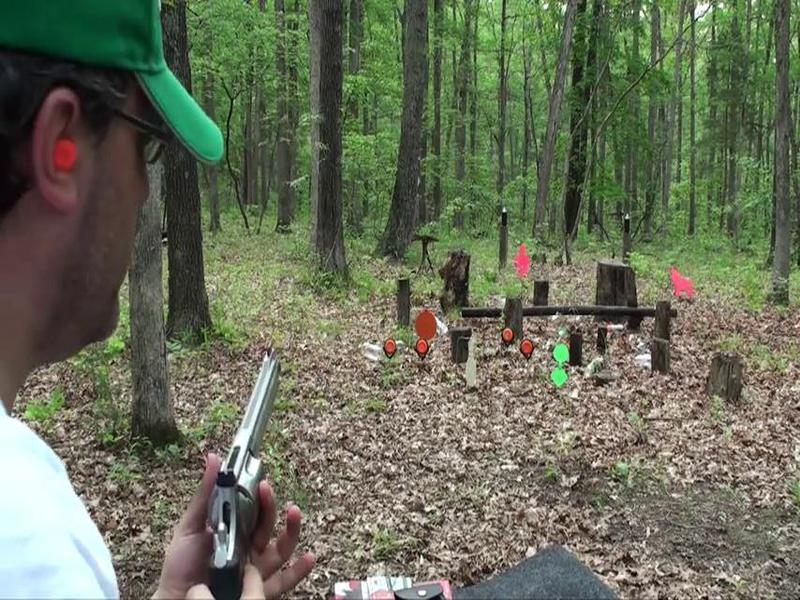Revolver: (187, 327, 319, 600)
